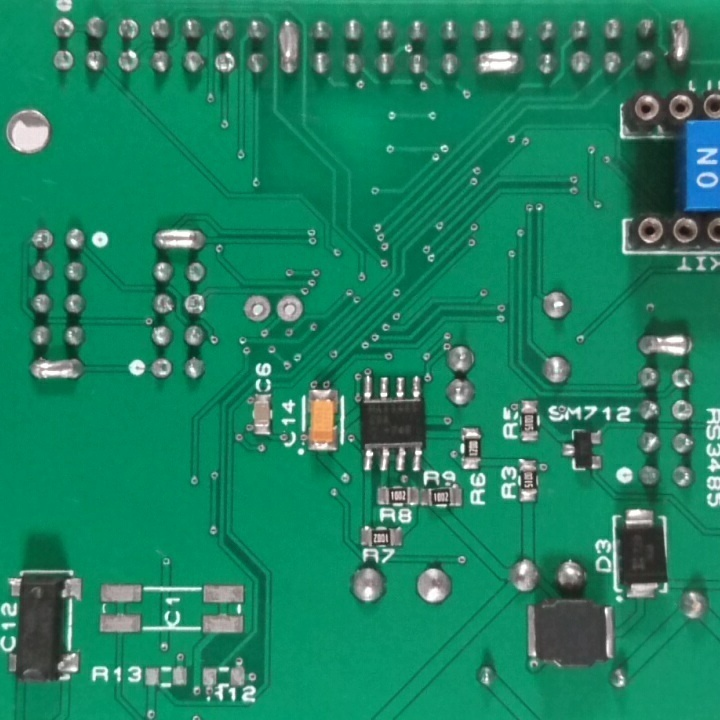F: (275, 293, 307, 326), (241, 292, 274, 323), (670, 395, 697, 426), (116, 15, 144, 42), (182, 291, 208, 318), (213, 48, 237, 77), (53, 14, 76, 43), (31, 228, 58, 252), (148, 358, 173, 381)
P: (633, 329, 696, 364), (27, 354, 87, 386), (274, 16, 303, 78), (147, 226, 207, 254), (472, 49, 526, 80), (667, 13, 693, 72)
